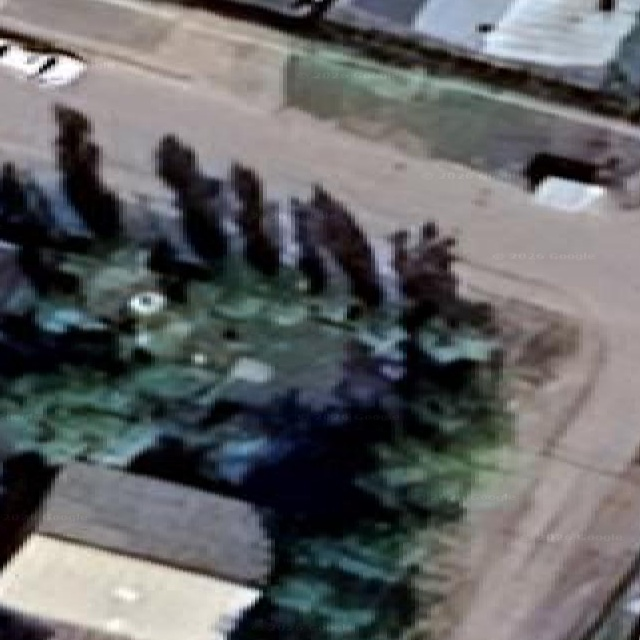car: (0, 39, 85, 86), (231, 0, 331, 18)
